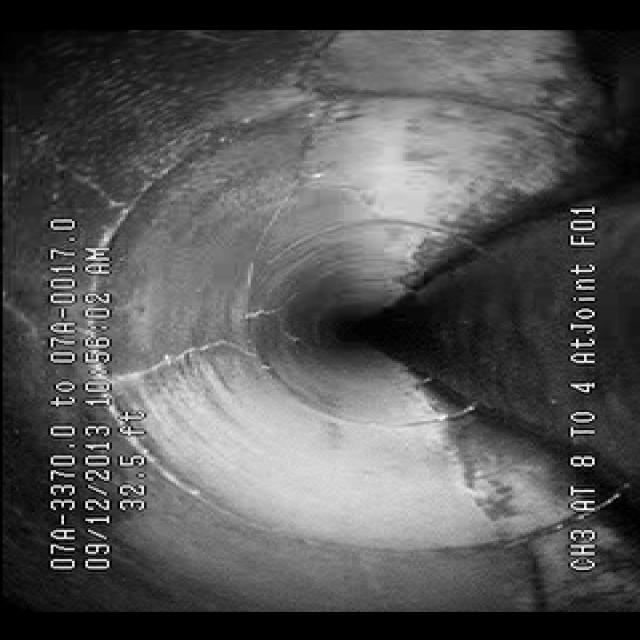Crack: (245, 43, 379, 206), (122, 317, 254, 389)
